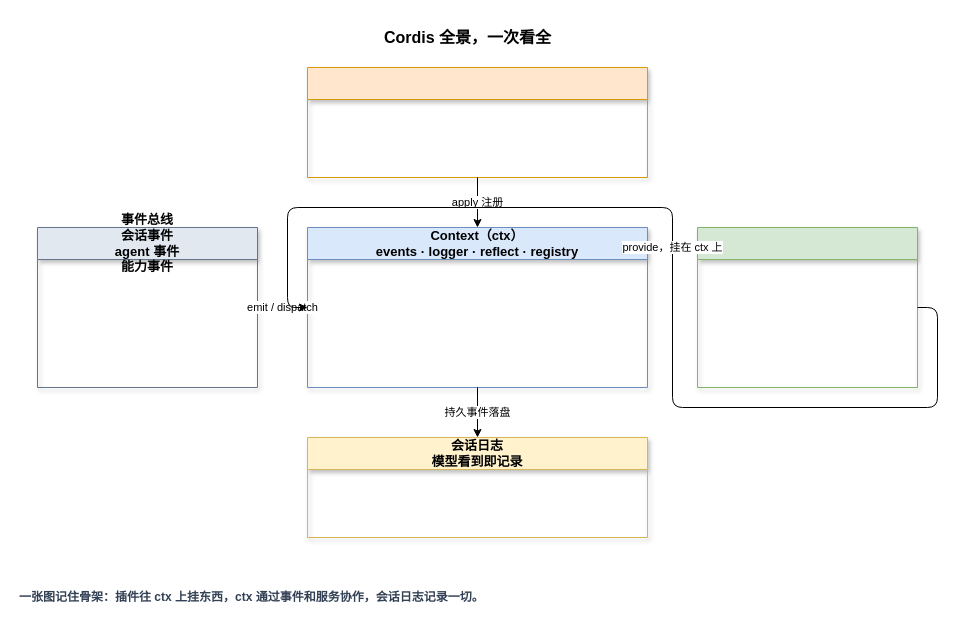
The diagram is 963 pixels wide and 634 high, and some of its shapes have lost their labels. Each missing label, with the centre of its shape:
"插件 导出 apply(ctx)，向框架注册能力" goes at (478,123).
"服务 Service 挂在 ctx 名字下 可替换，如 ctx.tools" goes at (808,308).
